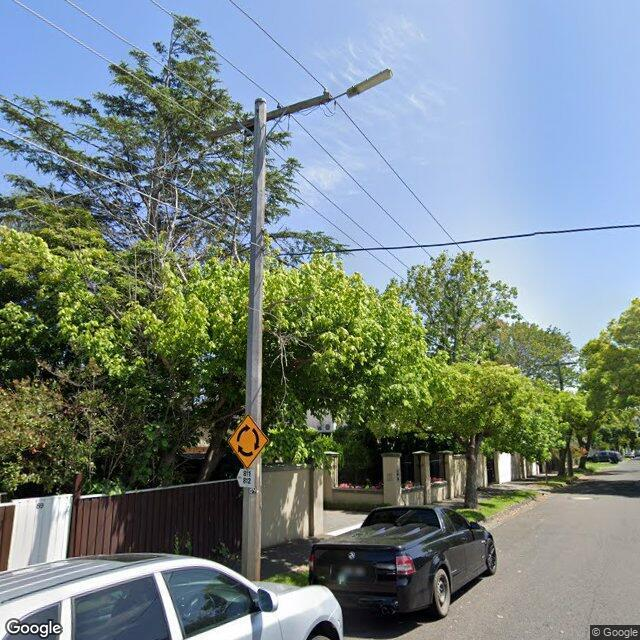crossarm: (205, 89, 332, 139)
streetlight: (330, 69, 394, 102)
timber-pole: (240, 97, 268, 579)
